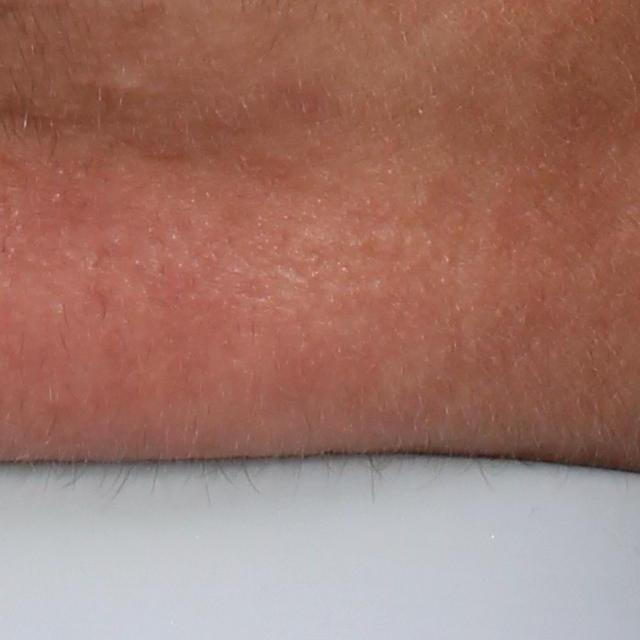hypertrophic_scar: (90, 54, 153, 95)
